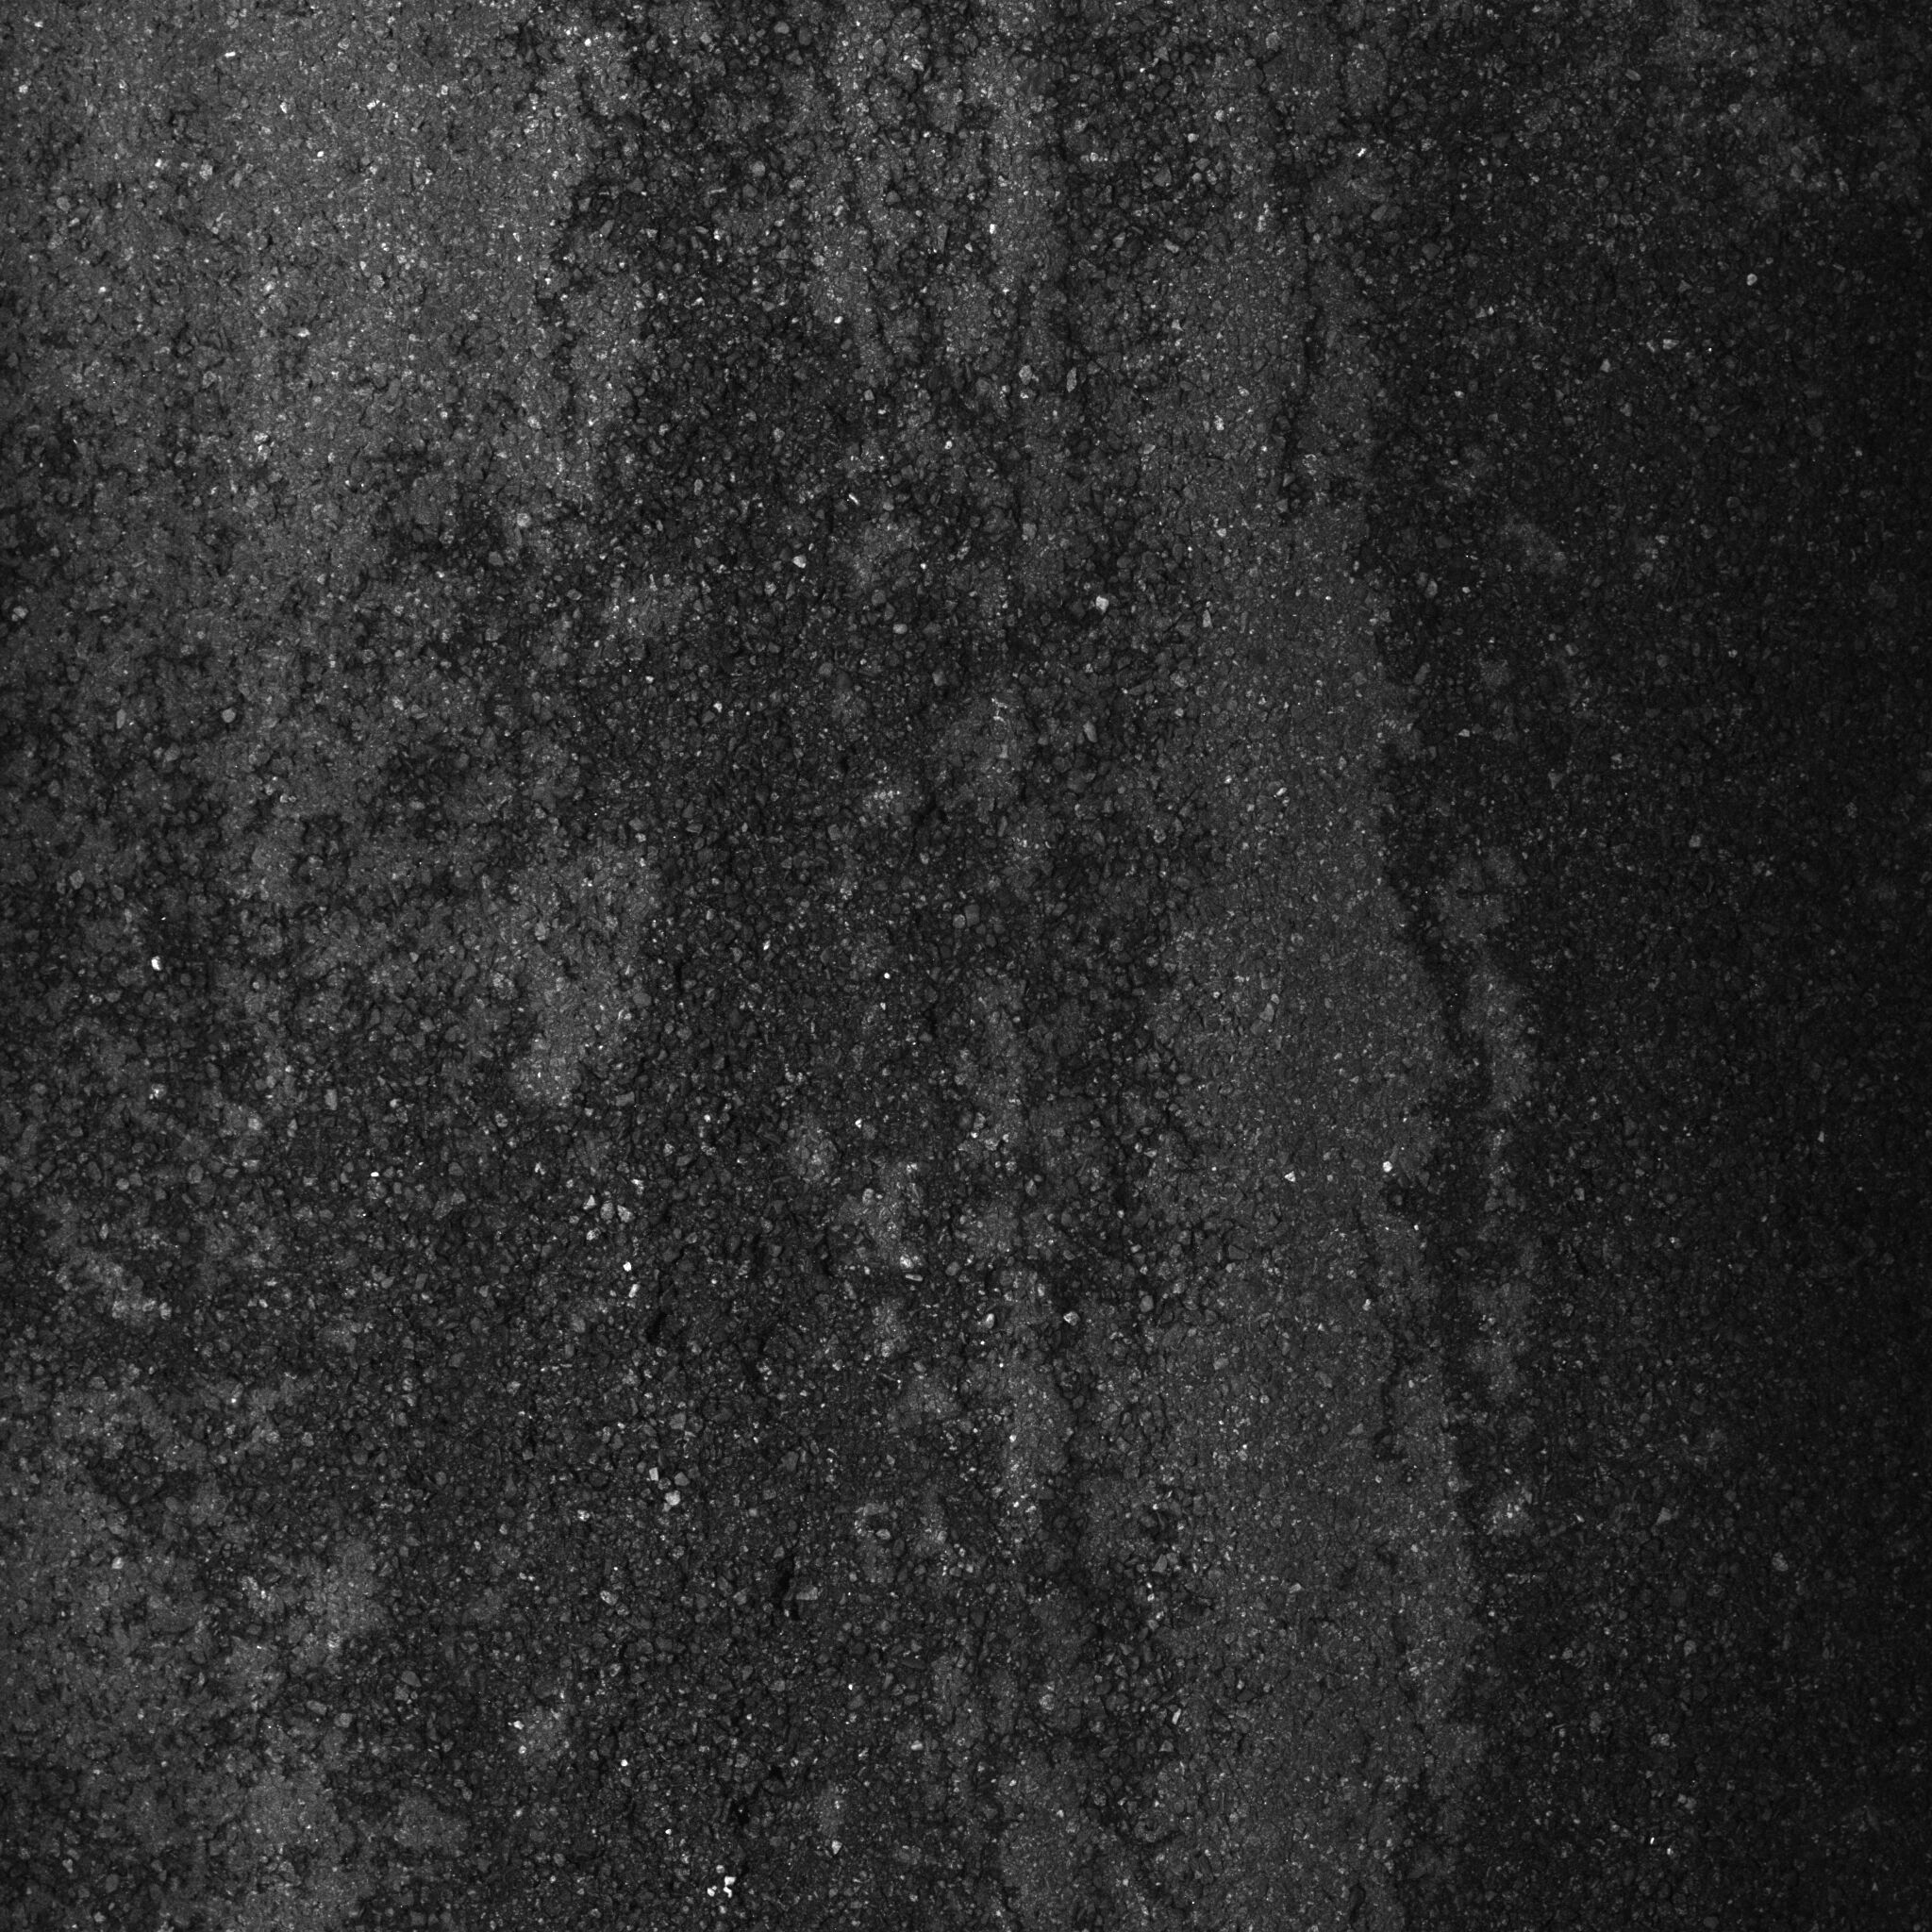alligator: (363, 30, 1343, 1932)
